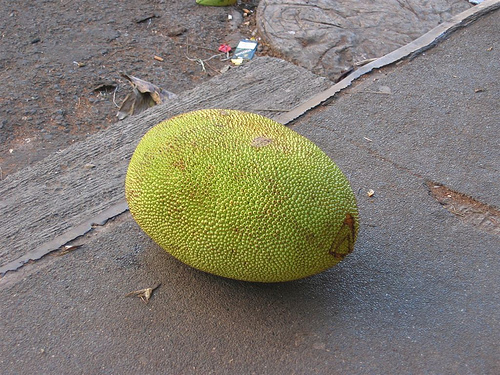jackfruit: (122, 107, 362, 286)
